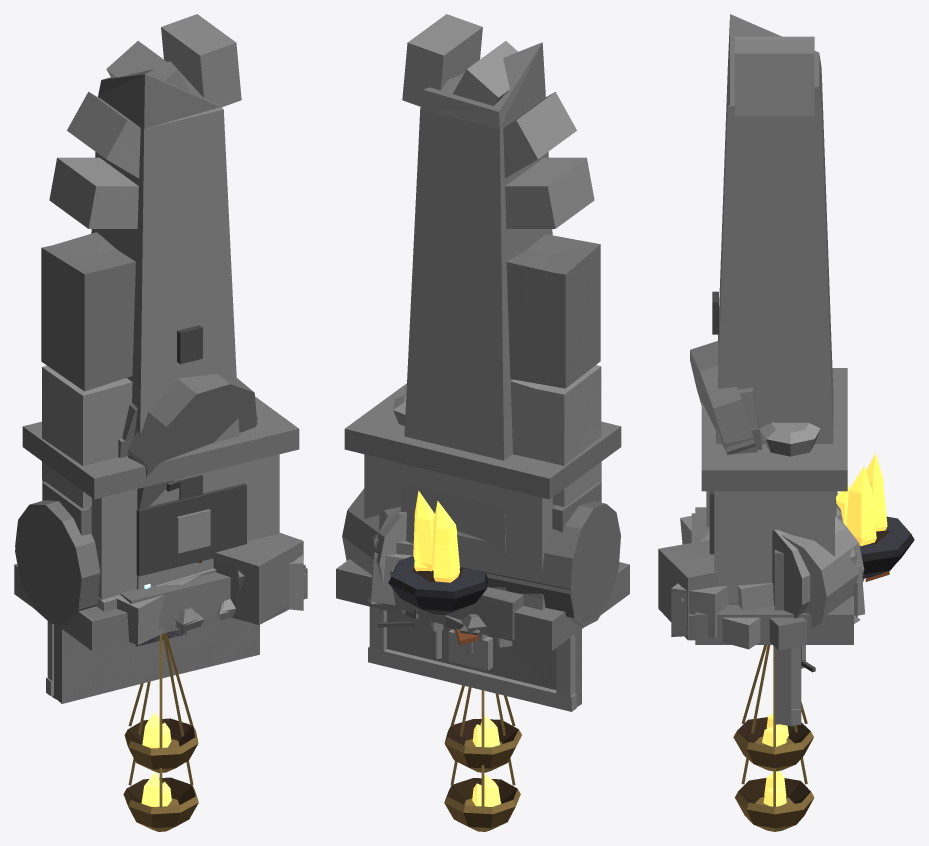
The model's file is ruins.glb.
3 renders of one model, left to right at view 1: azimuth 30°, elevation 25°; view 2: azimuth 150°, elevation 25°; view 3: azimuth 270°, elevation 25°, orthographic. The views are drawn at different scales.
Parts seen in each view (by area): view 1: ruins_obelisk_broken_b, ruins_collapsed_arch_a, ruins_altar_b, ruins_collapsed_arch_b, ruins_toppled_column_a, ruins_wall_relief_a, ruins_stone_tablet_b, ruins_wall_relief_b, ruins_obelisk_broken_a, ruins_hanging_censer_b, ruins_hanging_censer_a, ruins_altar_a (+3 smaller); view 2: ruins_obelisk_broken_b, ruins_collapsed_arch_a, ruins_collapsed_arch_b, ruins_altar_b, ruins_toppled_column_a, ruins_wall_relief_a, ruins_wall_relief_b, ruins_toppled_column_b, ruins_hanging_censer_b, ruins_wall_brazier_b, ruins_hanging_censer_a, ruins_altar_a (+3 smaller); view 3: ruins_obelisk_broken_b, ruins_altar_b, ruins_collapsed_arch_a, ruins_altar_a, ruins_toppled_column_a, ruins_toppled_column_b, ruins_hanging_censer_b, ruins_stone_tablet_b, ruins_hanging_censer_a, ruins_wall_brazier_a, ruins_wall_brazier_b, ruins_wall_relief_b (+5 smaller).
Part boxes in pixels (x1,y1,x2,y2): ruins_obelisk_broken_b: (91,61,305,634); ruins_collapsed_arch_a: (41,14,303,608); ruins_altar_b: (14,396,307,650); ruins_collapsed_arch_b: (41,41,303,610); ruins_toppled_column_a: (15,500,303,624); ruins_wall_relief_a: (46,617,259,702); ruins_stone_tablet_b: (128,374,257,631); ruins_wall_relief_b: (53,617,259,703); ruins_obelisk_broken_a: (120,325,305,627); ruins_hanging_censer_b: (123,633,198,831); ruins_hanging_censer_a: (124,633,198,772); ruins_altar_a: (63,399,307,619); ruins_obelisk_broken_b: (372,42,552,640); ruins_collapsed_arch_a: (376,14,601,604); ruins_collapsed_arch_b: (376,41,601,555); ruins_altar_b: (336,383,629,650); ruins_toppled_column_a: (372,501,620,633); ruins_wall_relief_a: (368,606,581,711); ruins_wall_relief_b: (387,611,581,706); ruins_toppled_column_b: (342,488,618,636); ruins_hanging_censer_b: (444,687,520,831); ruins_wall_brazier_b: (393,501,488,614); ruins_hanging_censer_a: (444,685,521,772); ruins_altar_a: (340,386,625,576); ruins_obelisk_broken_b: (681,14,857,617); ruins_altar_b: (695,368,853,644); ruins_collapsed_arch_a: (671,39,814,638); ruins_altar_a: (689,369,851,650); ruins_toppled_column_a: (658,491,855,630); ruins_toppled_column_b: (659,518,864,640); ruins_hanging_censer_b: (735,645,814,831); ruins_stone_tablet_b: (690,341,757,454); ruins_hanging_censer_a: (733,645,813,771); ruins_wall_brazier_a: (837,466,909,577); ruins_wall_brazier_b: (836,453,914,578); ruins_wall_relief_b: (774,550,805,726).
Size of the model in its own units: 0.8549 by 2.66 by 0.7699.
